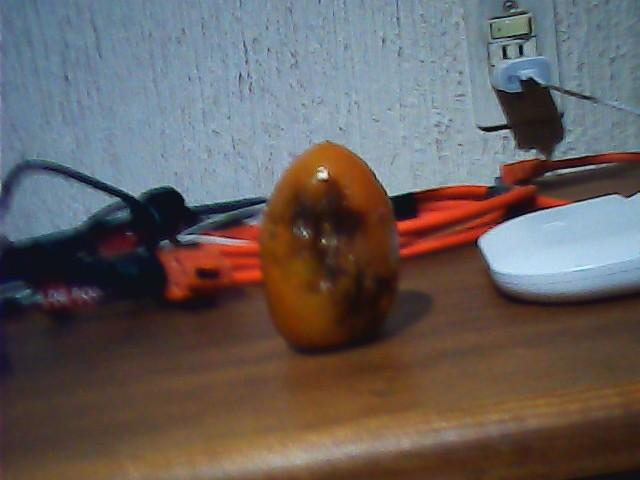defectuoso: (259, 140, 395, 353)
